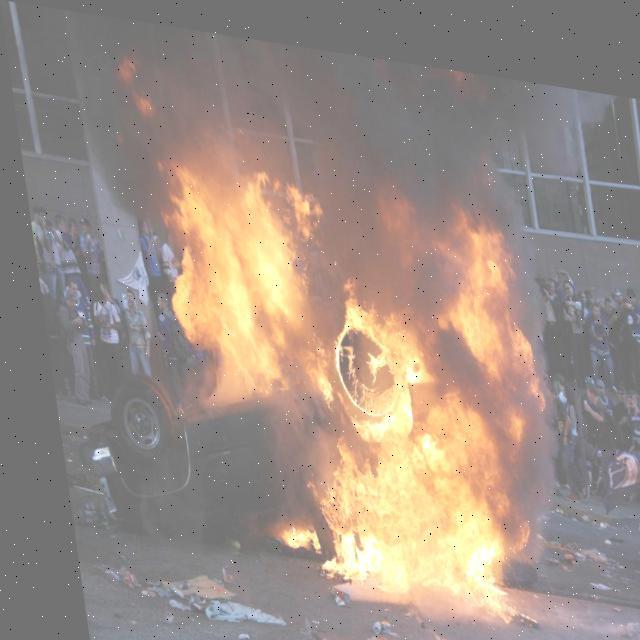Fire: (140, 114, 564, 616)
